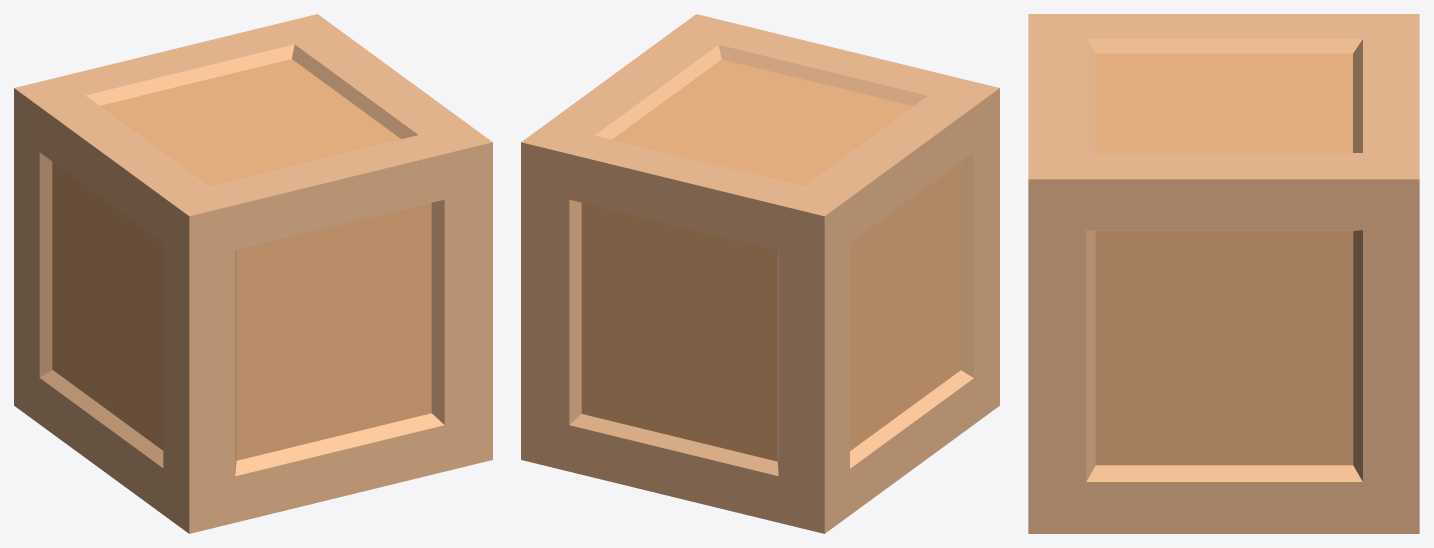
3 views of the same model, side by side, from view 1: azimuth 30°, elevation 25°; view 2: azimuth 150°, elevation 25°; view 3: azimuth 270°, elevation 25° (orthographic). The views are drawn at different scales.
Visible parts, largest first — view 1: box_008; view 2: box_008; view 3: box_008.
Part boxes in pixels (x1,y1,x2,y2): box_008: (14,14,492,533); box_008: (521,14,999,533); box_008: (1028,14,1419,533).
Size of the model in its own units: 0.6227 by 0.6227 by 0.6227.
1 material, 1 textured.
